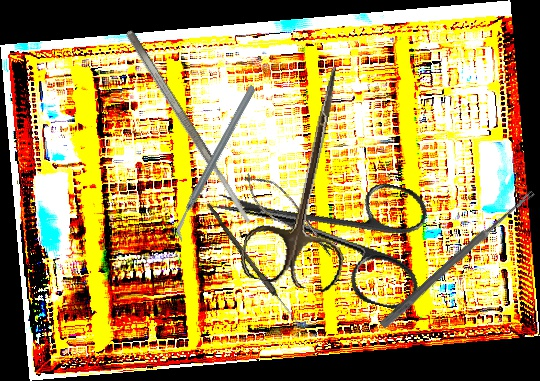Chopper: (131, 84, 301, 243)
Iris Scissors: (199, 144, 441, 314), (237, 56, 380, 295)
Micro Scissor: (235, 165, 344, 264)
Spatula Surgical: (123, 28, 255, 228)
Surgical Spoon: (379, 188, 536, 330), (203, 203, 304, 328)
